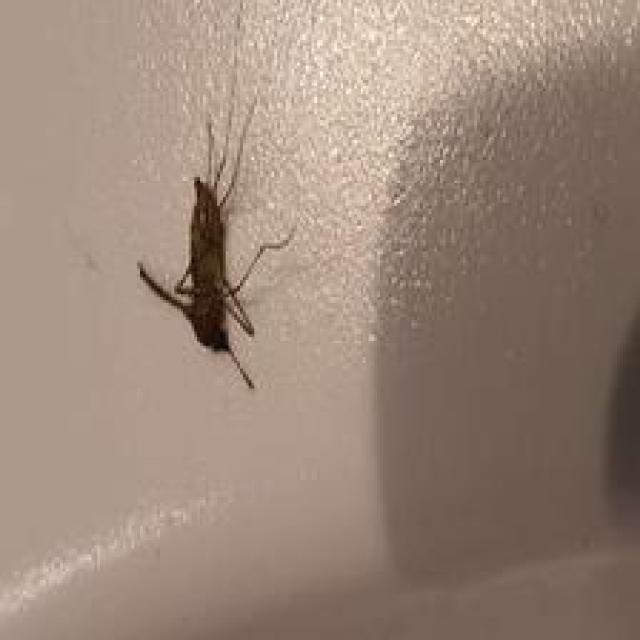Culex: (134, 96, 297, 390)
